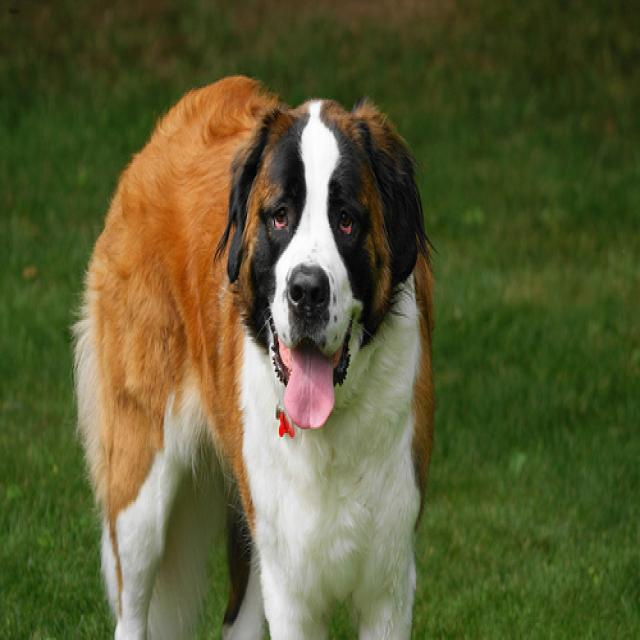dog-saint_bernard: (65, 69, 443, 636)
